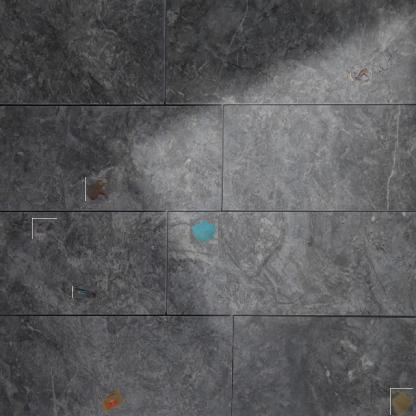dirty: (97, 387, 125, 416), (190, 219, 218, 245), (32, 218, 57, 239), (346, 65, 372, 85), (72, 286, 97, 298)
liquid: (389, 389, 414, 414), (85, 177, 108, 201)
